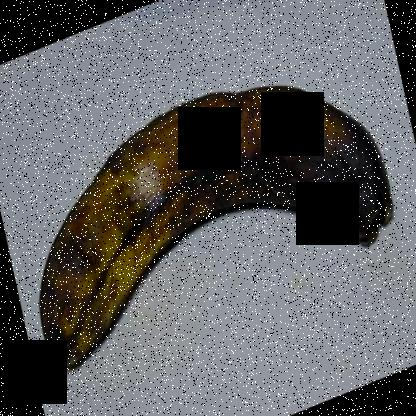overripe: (14, 64, 407, 402)
